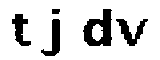d: (80, 4, 114, 51)
j: (39, 6, 65, 60)
t: (9, 11, 35, 49)
v: (115, 14, 149, 50)
